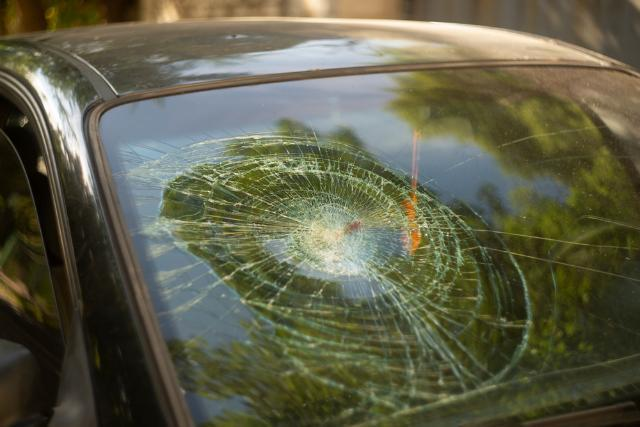glass shatter: (99, 65, 640, 427)
